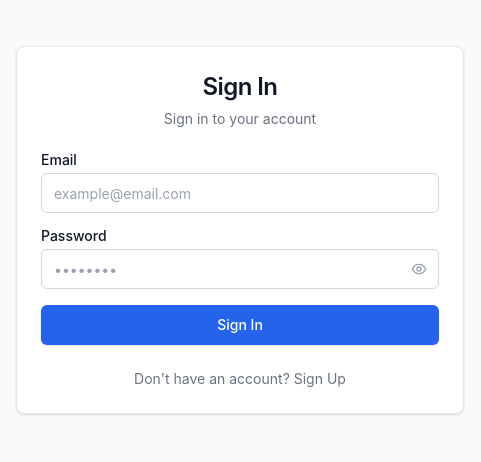
LoginPage › should show generic error on non-401 failure
Type "test@test.com" into the field labelled "Email" at (240, 193), box [41,173,439,213]
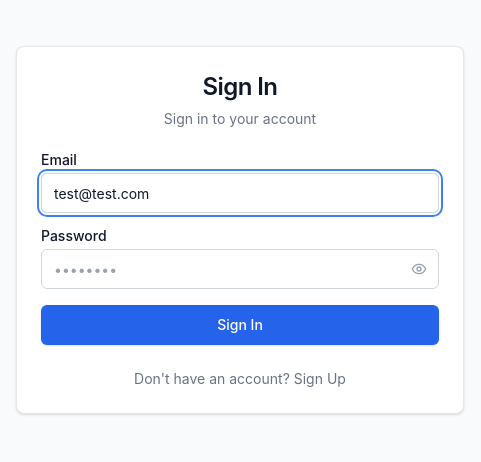
Type "Password123" into the password field labelled "Password" at (240, 269), box [41,249,439,289]
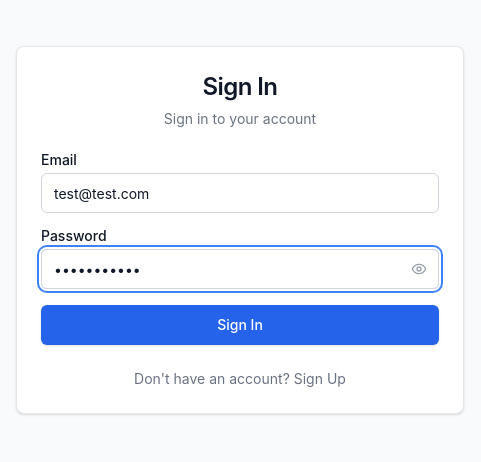
Click the button "Sign In" at (240, 325), box [41,305,439,345]
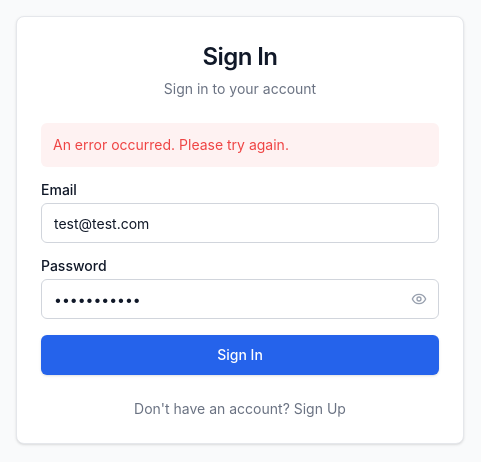
Expected: the text "An error occurred. Please try again." is shown, [41,123,439,167]
